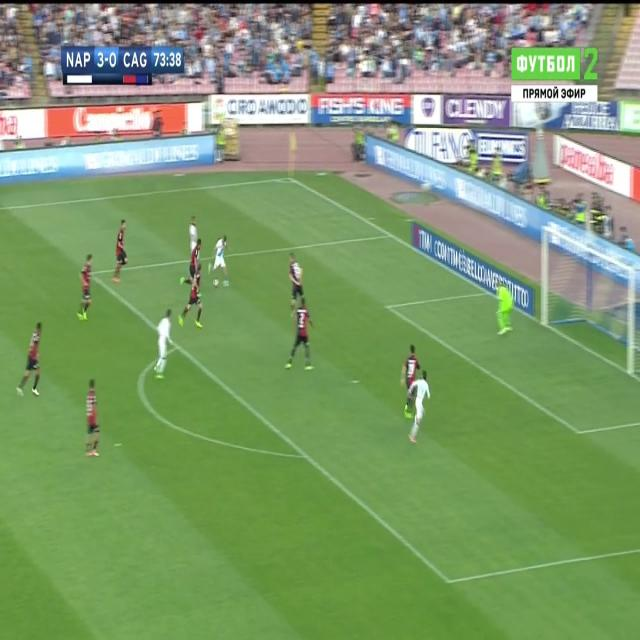Ball: (212, 275, 220, 289)
Goalkeeper: (492, 281, 518, 339)
Player: (282, 295, 317, 374), (15, 318, 45, 404), (407, 369, 433, 449), (177, 266, 205, 332), (152, 308, 174, 382), (400, 346, 421, 419), (75, 252, 95, 326), (84, 377, 102, 459), (207, 234, 233, 288), (285, 250, 307, 310), (179, 237, 203, 289), (112, 217, 129, 287), (187, 214, 200, 255)
